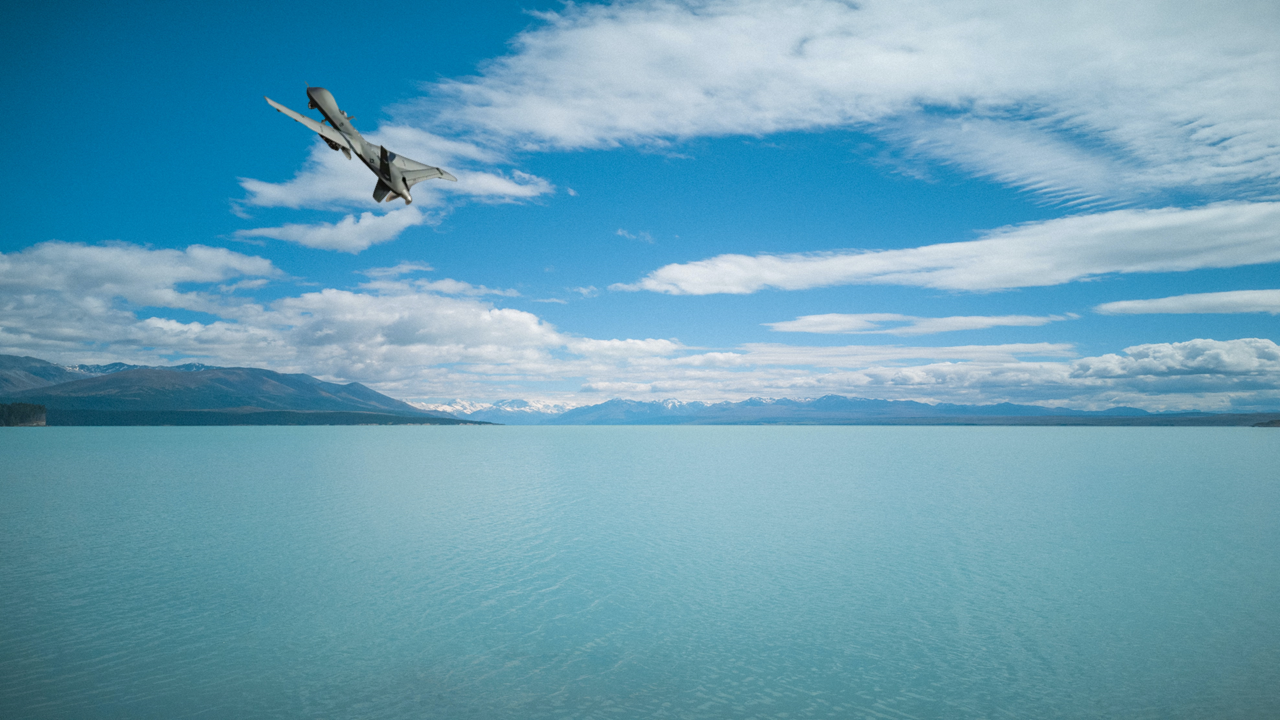military drone: (264, 87, 457, 205)
